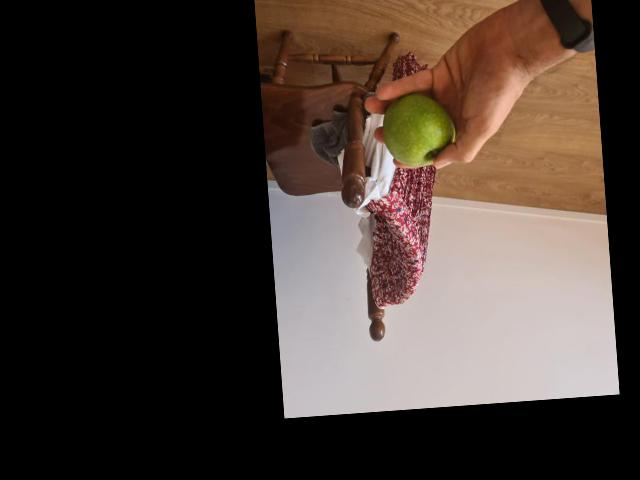apple: (385, 92, 458, 168)
